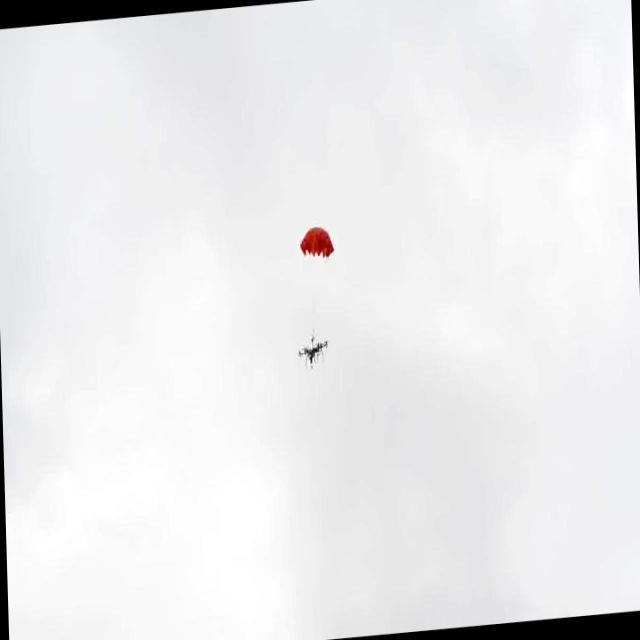drone: (294, 331, 331, 375)
